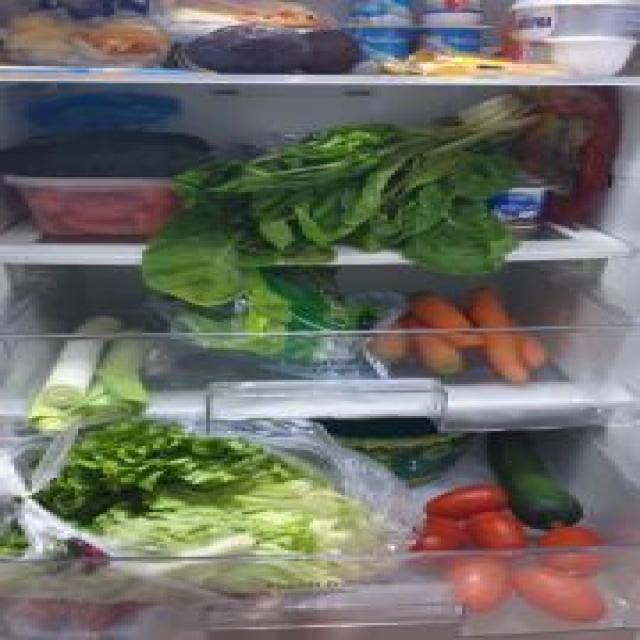avocado: (190, 28, 311, 74), (297, 26, 368, 76)
carrot: (363, 283, 558, 389)
cheese: (508, 1, 640, 40)
cucumber: (2, 129, 222, 180)
grated_cheese: (3, 4, 164, 64), (149, 0, 338, 28)
leek: (14, 312, 160, 439)
salad: (21, 421, 409, 588), (25, 440, 405, 586)
spinach: (169, 264, 364, 378)
tomato: (512, 565, 608, 625), (445, 555, 519, 610), (462, 514, 534, 563), (539, 529, 606, 580), (423, 488, 509, 520)
yogurt: (482, 180, 560, 232)
